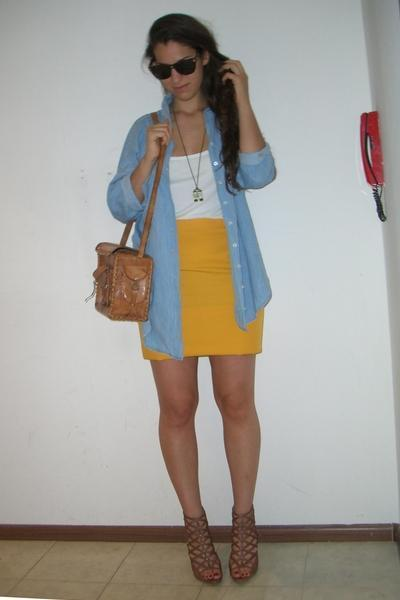bag: (93, 228, 153, 323)
shirt: (107, 91, 275, 359), (169, 156, 222, 219)
shoe: (175, 506, 260, 586)
skirt: (176, 218, 263, 356)
sunglass: (156, 59, 194, 79)
